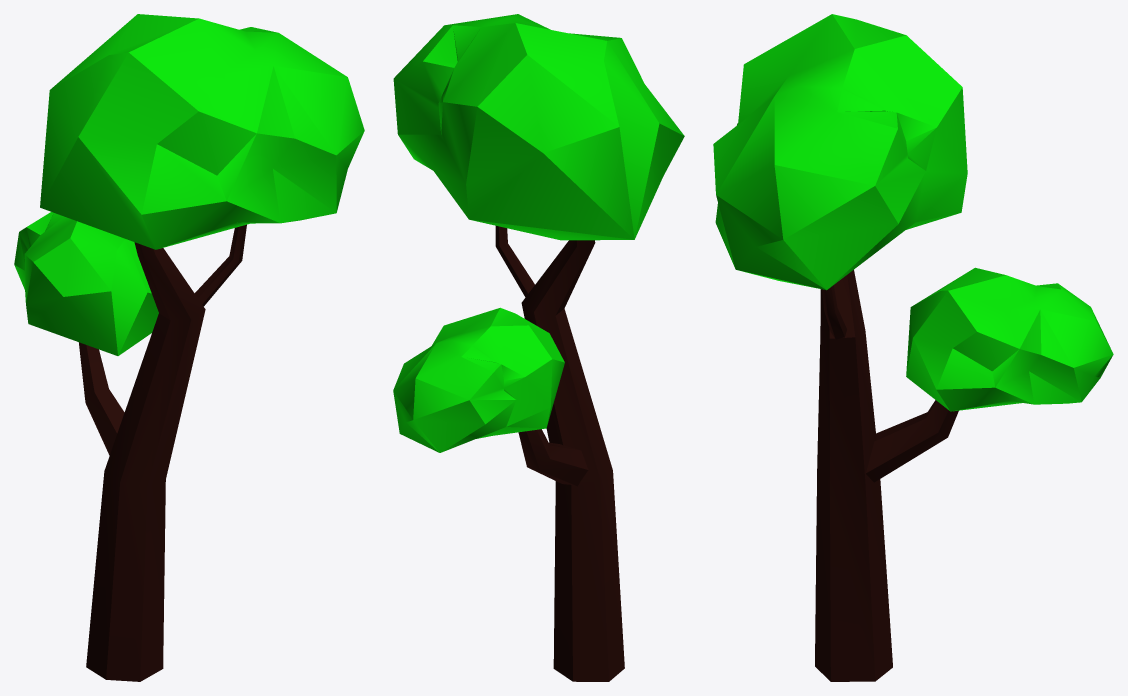
Rendered from tree02.fbx.
3 renders of one model, left to right at view 1: azimuth 30°, elevation 25°; view 2: azimuth 150°, elevation 25°; view 3: azimuth 270°, elevation 25°, orthographic. The views are drawn at different scales.
Visible parts, largest first — view 1: spookyTrees3; view 2: spookyTrees3; view 3: spookyTrees3.
Part boxes in pixels (<box>): spookyTrees3: <box>14,14,364,681</box>; spookyTrees3: <box>393,14,684,681</box>; spookyTrees3: <box>713,14,1113,681</box>.
Size of the model in its own units: 2.22 by 4.95 by 2.73.
